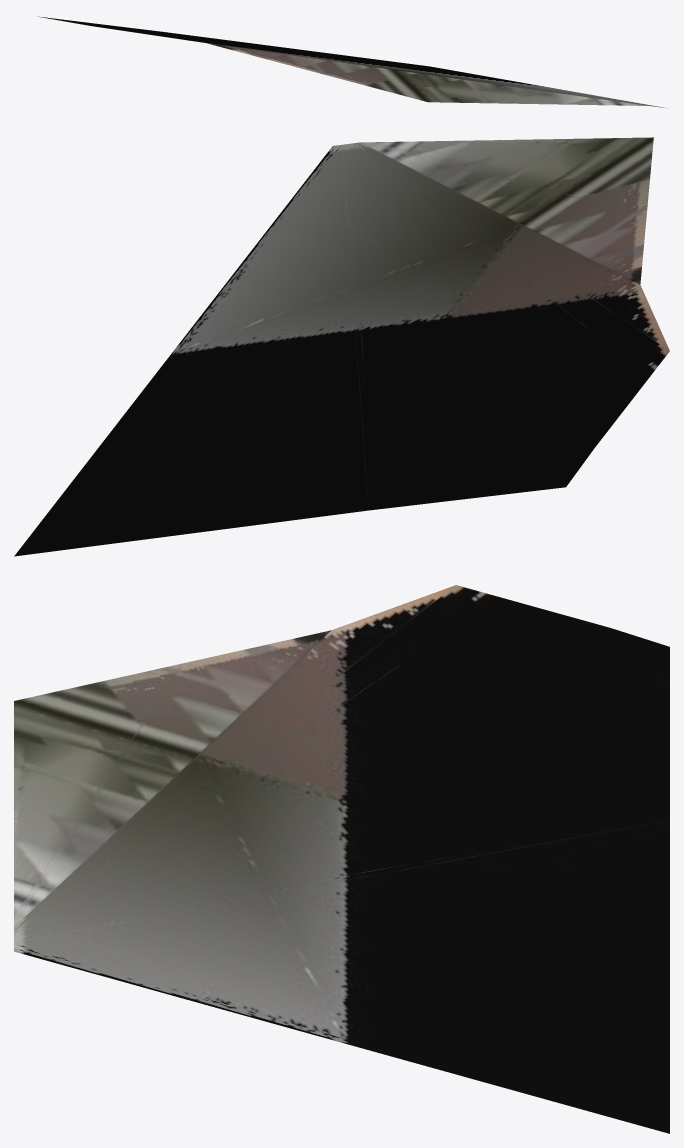
The picture shows the model from 3 angles, top to bottom: view 1: azimuth 30°, elevation 25°; view 2: azimuth 150°, elevation 25°; view 3: azimuth 270°, elevation 25°; orthographic projection. The views are drawn at different scales.
Size of the model in its own units: 1.67 by 0.7654 by 1.67.
2 materials, 2 textured.
